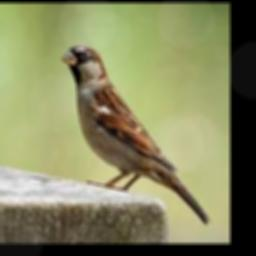Sparrow: (61, 46, 212, 225)
